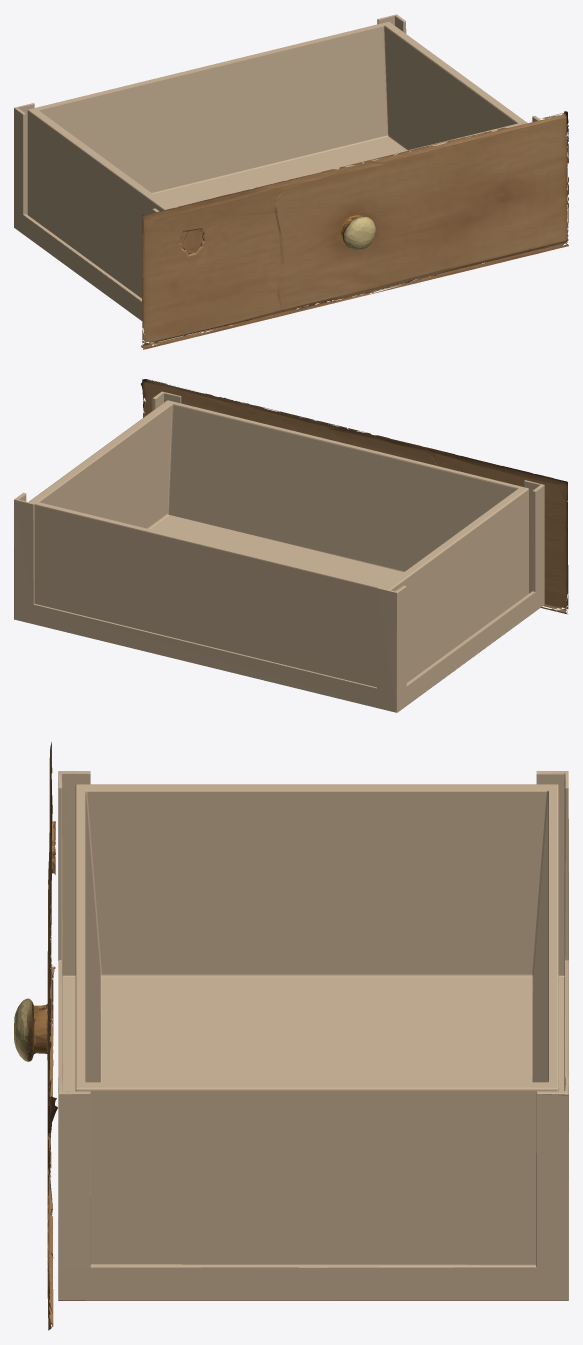
File: nightstand-drawer.glb
3 views of the same model, one above another, from view 1: azimuth 30°, elevation 25°; view 2: azimuth 150°, elevation 25°; view 3: azimuth 270°, elevation 25° (orthographic). The views are drawn at different scales.
Parts seen in each view (by area): view 1: prefab_drawer_body_7, source_front_cap_5, source_front_cap_0; view 2: prefab_drawer_body_7, source_front_cap_5, source_front_cap_0; view 3: prefab_drawer_body_7, source_front_cap_5, source_front_cap_0.
Part boxes in pixels (x1,y1,x2,y2): prefab_drawer_body_7: (14,14,540,320); source_front_cap_5: (141,111,568,347); source_front_cap_0: (142,112,568,349); prefab_drawer_body_7: (14,391,544,712); source_front_cap_5: (141,379,568,614); source_front_cap_0: (143,379,568,613); prefab_drawer_body_7: (58,771,568,1300); source_front_cap_5: (14,743,57,1326); source_front_cap_0: (47,742,53,1330).
Size of the model in its own units: 0.3777 by 0.1133 by 0.2468.
2 materials, 1 textured.
